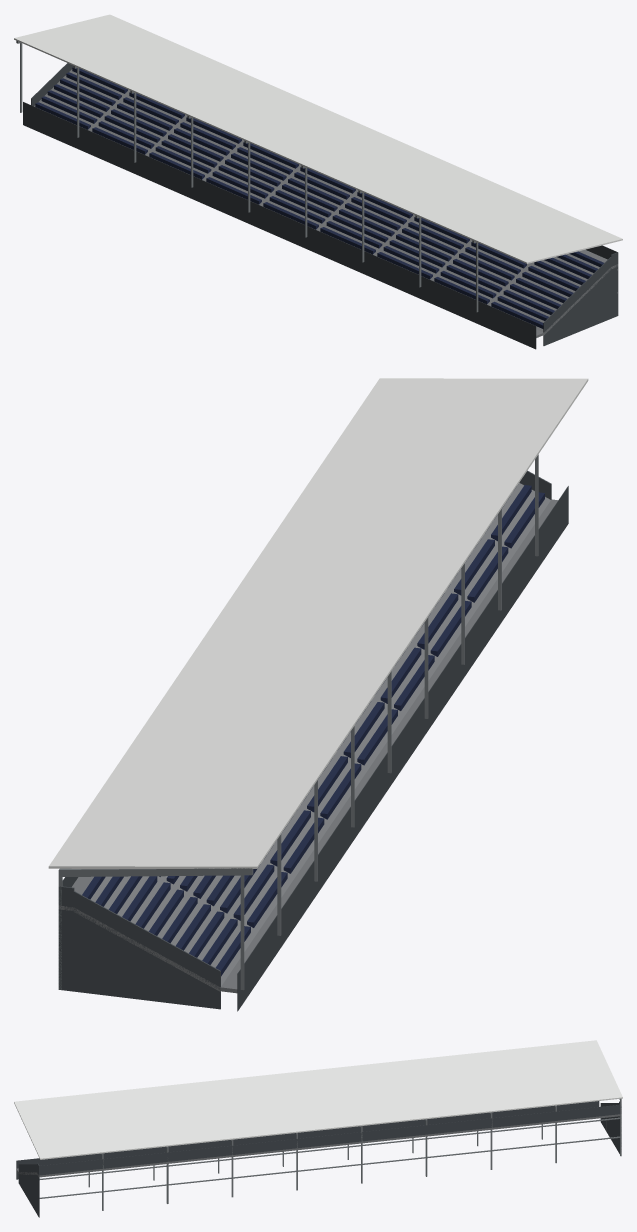
Rendered from sil_stand_copse_c.glb.
3 views of the same model, one above another, from view 1: azimuth 30°, elevation 25°; view 2: azimuth 150°, elevation 25°; view 3: azimuth 270°, elevation 25° (orthographic). The views are drawn at different scales.
Visible parts, largest first — view 1: silverstone-copse-c; view 2: silverstone-copse-c; view 3: silverstone-copse-c.
Part boxes in pixels (x1,y1,x2,y2): silverstone-copse-c: [14, 14, 622, 349]; silverstone-copse-c: [48, 378, 588, 1011]; silverstone-copse-c: [14, 1040, 622, 1217].
Size of the model in its own units: 28.87 by 9.36 by 70.13.
